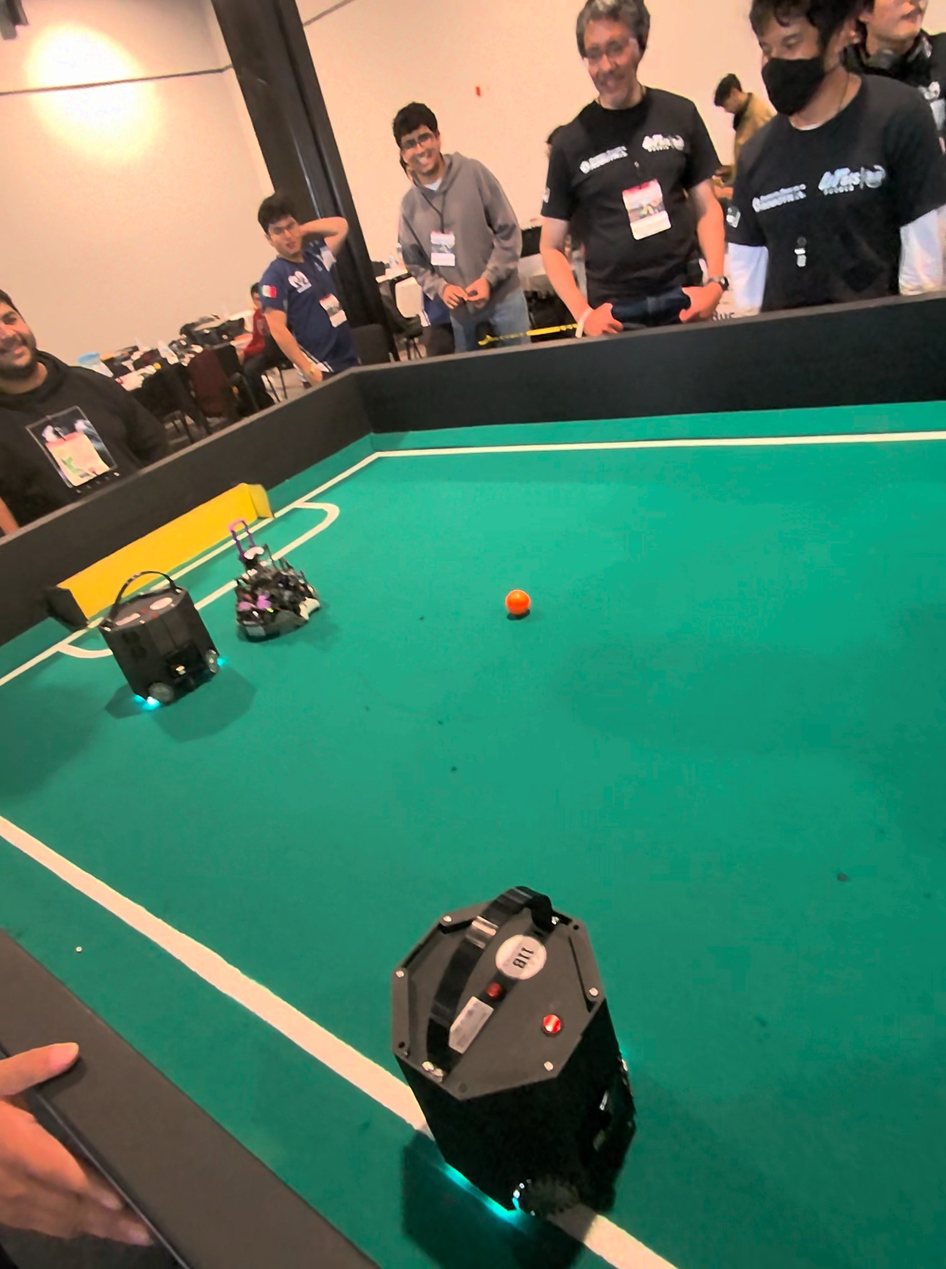Robot: (394, 882, 671, 1267), (95, 553, 241, 726), (226, 520, 324, 646)
pelota: (499, 587, 540, 629)
